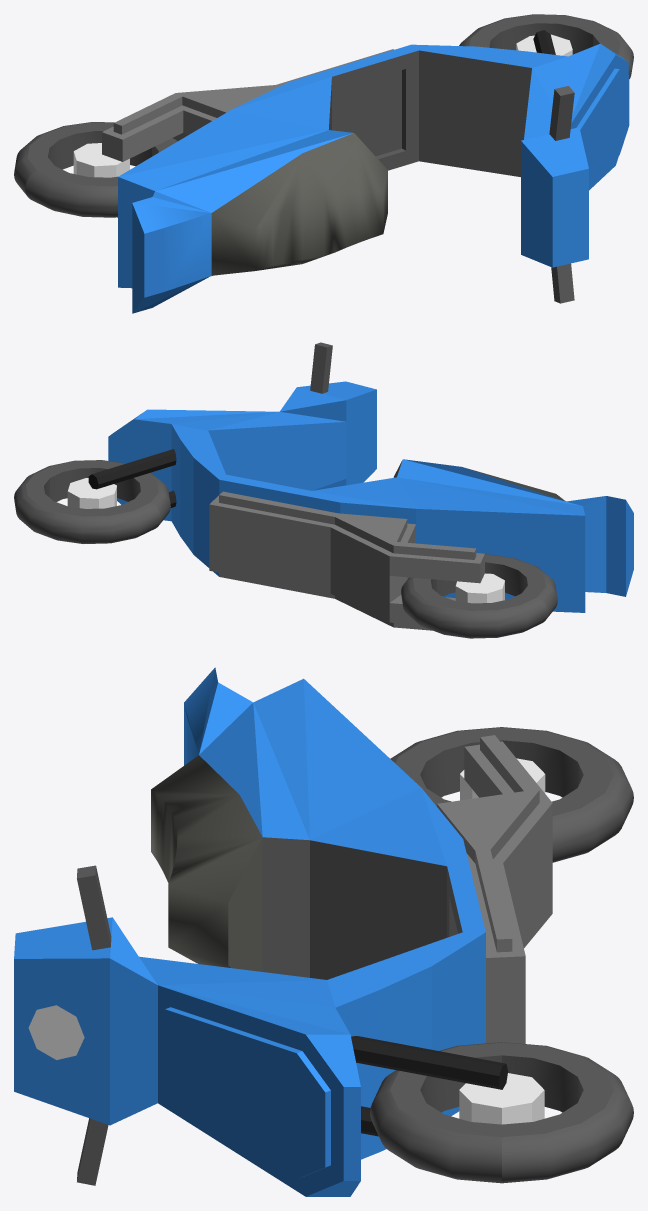
File: scooter.dae
3 views of the same model, one above another, from view 1: azimuth 30°, elevation 25°; view 2: azimuth 150°, elevation 25°; view 3: azimuth 270°, elevation 25° (orthographic). The views are drawn at different scales.
Parts seen in each view (by area): view 1: coords_ME_ID47_MA_material_1, coords_ME_ID147_MA_material_9, coords_ME_ID55_MA_material_2, coords_ME_ID28_MA_material_0, coords_ME_ID123_MA_material_2, coords_ME_ID129_MA_material_1, coords_ME_ID135_MA_material_4, coords_ME_ID71_MA_material_4, coords_ME_ID13_MA_material_0, coords_ME_ID21_MA_material_0, coords_ME_ID103_MA_material_7, coords_ME_ID34_MA_material_0 (+3 smaller); view 2: coords_ME_ID47_MA_material_1, coords_ME_ID71_MA_material_4, coords_ME_ID13_MA_material_0, coords_ME_ID28_MA_material_0, coords_ME_ID135_MA_material_4, coords_ME_ID4_MA_material, coords_ME_ID21_MA_material_0, coords_ME_ID95_MA_material_7, coords_ME_ID103_MA_material_7, coords_ME_ID34_MA_material_0, coords_ME_ID141_MA_material_4, coords_ME_ID89_MA_material_3 (+1 smaller); view 3: coords_ME_ID47_MA_material_1, coords_ME_ID55_MA_material_2, coords_ME_ID13_MA_material_0, coords_ME_ID147_MA_material_9, coords_ME_ID129_MA_material_1, coords_ME_ID71_MA_material_4, coords_ME_ID28_MA_material_0, coords_ME_ID135_MA_material_4, coords_ME_ID4_MA_material, coords_ME_ID34_MA_material_0, coords_ME_ID21_MA_material_0, coords_ME_ID95_MA_material_7 (+3 smaller).
Part boxes in pixels (box(x1,y1,x2,y2)): coords_ME_ID47_MA_material_1: box(118, 43, 628, 313); coords_ME_ID147_MA_material_9: box(211, 133, 387, 275); coords_ME_ID55_MA_material_2: box(329, 50, 531, 176); coords_ME_ID28_MA_material_0: box(14, 122, 177, 217); coords_ME_ID123_MA_material_2: box(345, 69, 405, 159); coords_ME_ID129_MA_material_1: box(576, 68, 629, 183); coords_ME_ID135_MA_material_4: box(113, 49, 393, 134); coords_ME_ID71_MA_material_4: box(102, 105, 216, 161); coords_ME_ID13_MA_material_0: box(459, 14, 633, 78); coords_ME_ID21_MA_material_0: box(489, 23, 599, 54); coords_ME_ID103_MA_material_7: box(73, 143, 129, 177); coords_ME_ID34_MA_material_0: box(48, 131, 158, 169); coords_ME_ID47_MA_material_1: box(108, 381, 633, 612); coords_ME_ID71_MA_material_4: box(209, 495, 484, 624); coords_ME_ID13_MA_material_0: box(14, 460, 170, 543); coords_ME_ID28_MA_material_0: box(401, 554, 557, 638); coords_ME_ID135_MA_material_4: box(219, 491, 476, 559); coords_ME_ID4_MA_material: box(88, 449, 176, 489); coords_ME_ID21_MA_material_0: box(44, 468, 140, 501); coords_ME_ID95_MA_material_7: box(67, 478, 116, 508); coords_ME_ID103_MA_material_7: box(455, 573, 504, 603); coords_ME_ID34_MA_material_0: box(431, 562, 527, 596); coords_ME_ID141_MA_material_4: box(219, 572, 431, 630); coords_ME_ID89_MA_material_3: box(310, 342, 332, 393); coords_ME_ID47_MA_material_1: box(14, 667, 485, 1196); coords_ME_ID55_MA_material_2: box(262, 837, 462, 979); coords_ME_ID13_MA_material_0: box(370, 1042, 633, 1183); coords_ME_ID147_MA_material_9: box(151, 755, 262, 971); coords_ME_ID129_MA_material_1: box(165, 1007, 330, 1178); coords_ME_ID71_MA_material_4: box(464, 741, 552, 1043); coords_ME_ID28_MA_material_0: box(390, 727, 633, 862); coords_ME_ID135_MA_material_4: box(437, 735, 539, 952); coords_ME_ID4_MA_material: box(351, 1036, 507, 1089); coords_ME_ID34_MA_material_0: box(420, 740, 583, 797); coords_ME_ID21_MA_material_0: box(420, 1055, 583, 1112); coords_ME_ID95_MA_material_7: box(459, 1073, 544, 1124).
Bounding box in the file's own units: 21.3 × 7.23 × 13.08.
